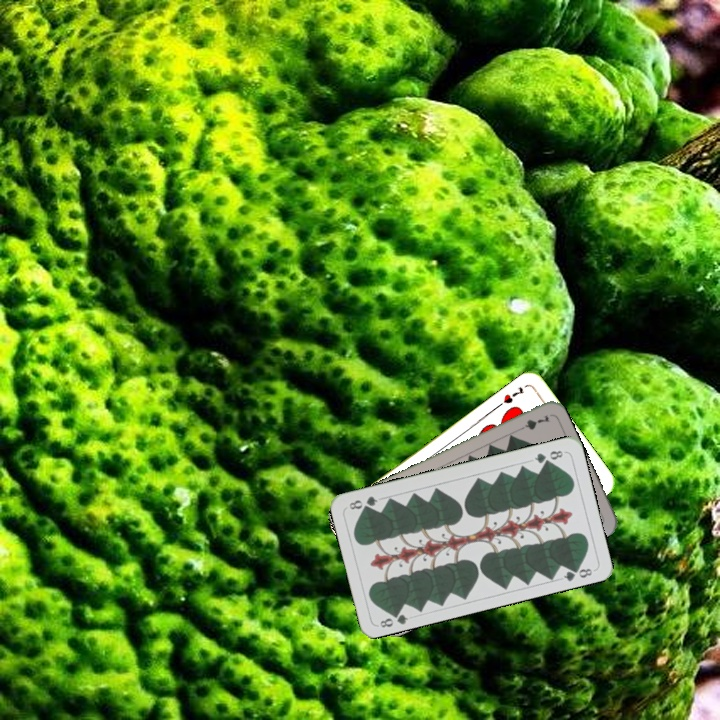G7: (513, 411, 553, 434)
G8: (376, 606, 411, 630), (530, 446, 566, 466)
H7: (493, 382, 527, 410)
